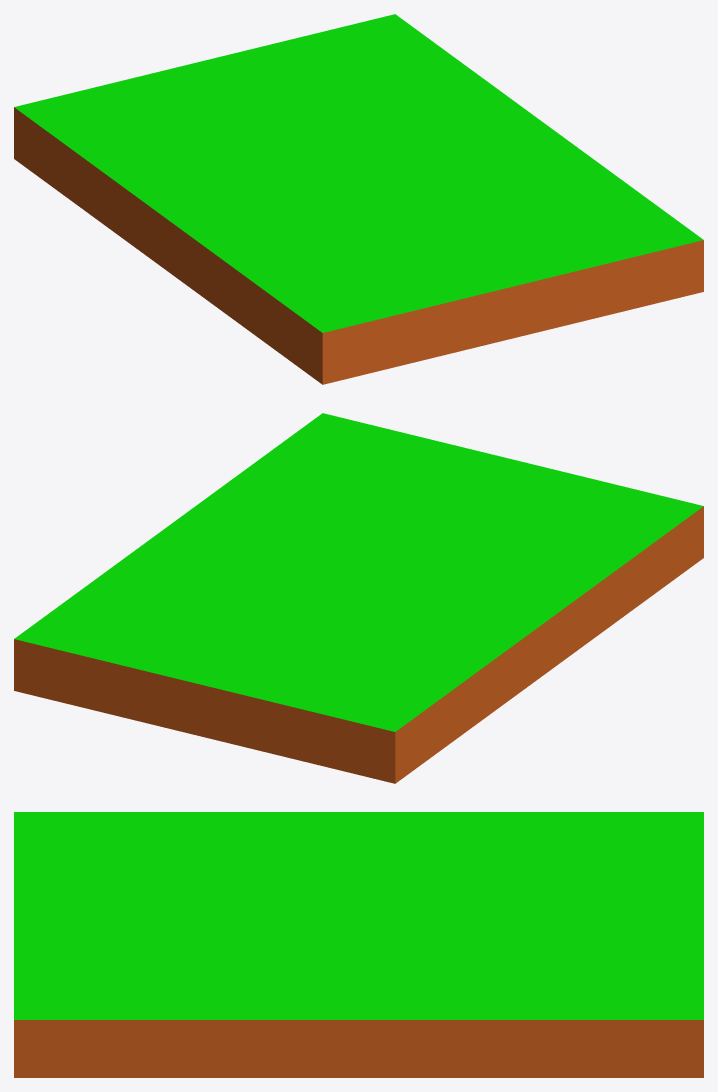
File: Ground_1.fbx
3 renders of one model, top to bottom at view 1: azimuth 30°, elevation 25°; view 2: azimuth 150°, elevation 25°; view 3: azimuth 270°, elevation 25°, orthographic. The views are drawn at different scales.
Parts seen in each view (by area): view 1: Ground_1; view 2: Ground_1; view 3: Ground_1.
Boxes of the visible parts, bbox=[...] form: Ground_1: bbox=[14, 14, 703, 384]; Ground_1: bbox=[14, 413, 703, 783]; Ground_1: bbox=[14, 812, 703, 1077].
Bounding box in the file's own units: 13.84 × 1.8 × 19.4.
